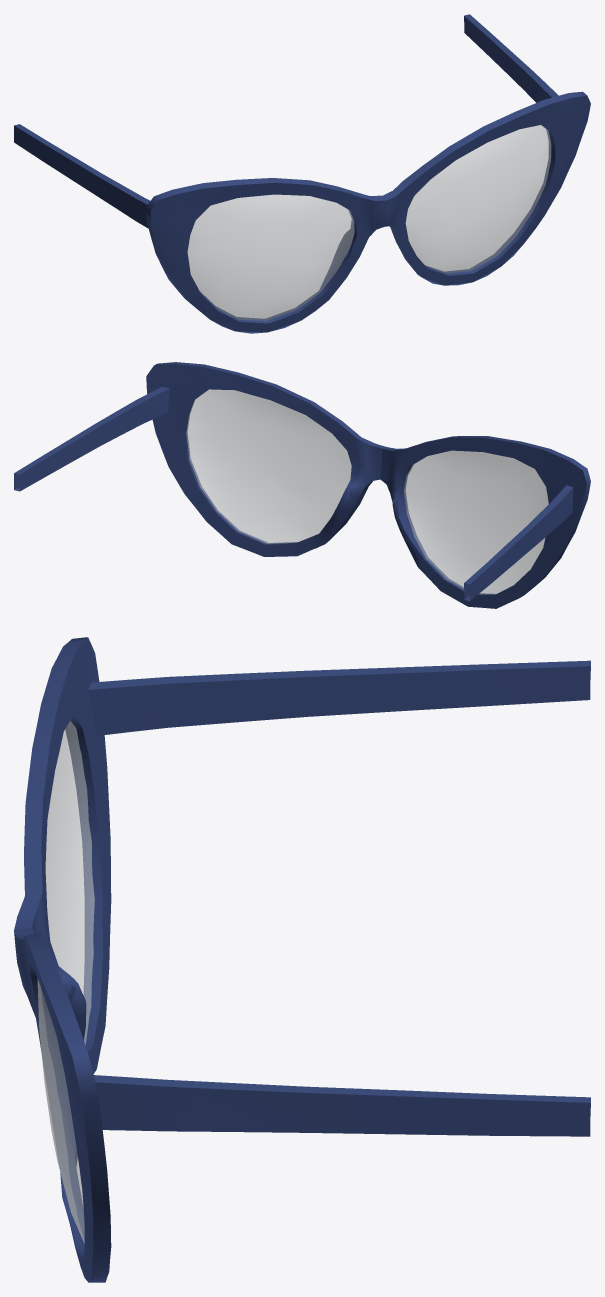
File: model_8_navy.glb
3 views of the same model, one above another, from view 1: azimuth 30°, elevation 25°; view 2: azimuth 150°, elevation 25°; view 3: azimuth 270°, elevation 25° (orthographic). The views are drawn at different scales.
Visible parts, largest first — view 1: model_8_navy; view 2: model_8_navy; view 3: model_8_navy.
Boxes of the visible parts, bbox=[...] form: model_8_navy: bbox=[14, 14, 590, 333]; model_8_navy: bbox=[14, 362, 590, 608]; model_8_navy: bbox=[14, 637, 590, 1282].
Bounding box in the file's own units: 15.85 × 5.6 × 8.74.
